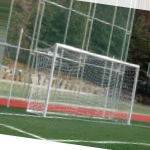goals: (28, 41, 140, 125)
